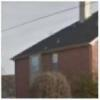chimneys: (78, 2, 92, 24)
